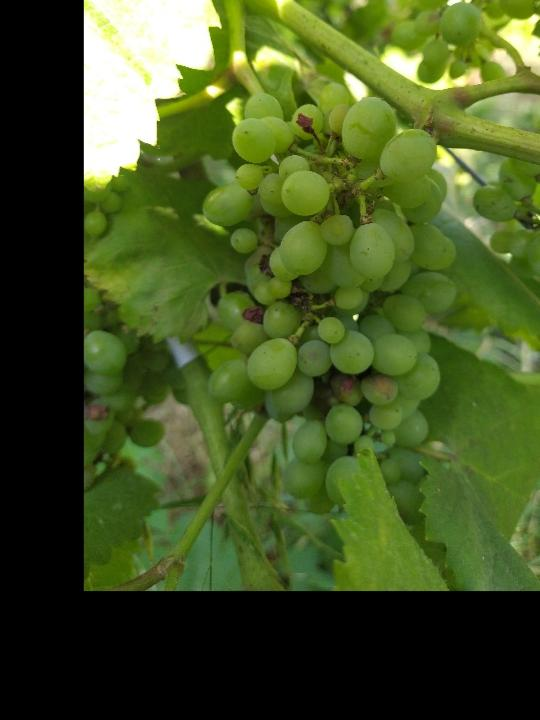grape: (202, 81, 464, 528)
